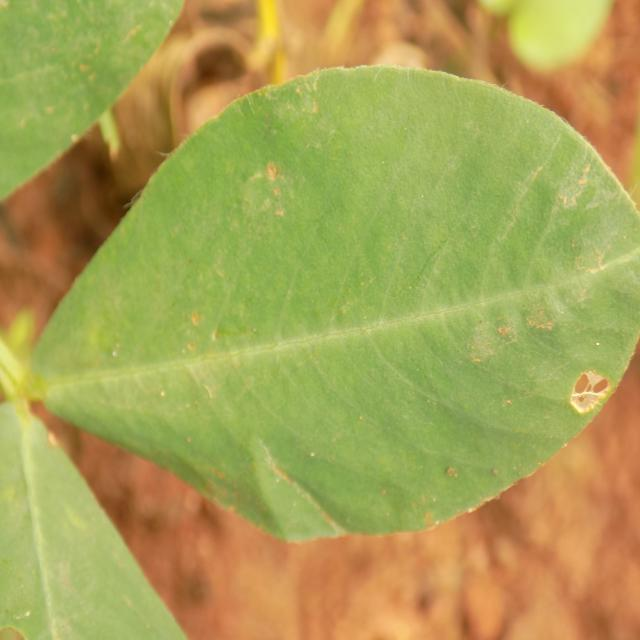Ground nut_healthy: (25, 62, 640, 552)
